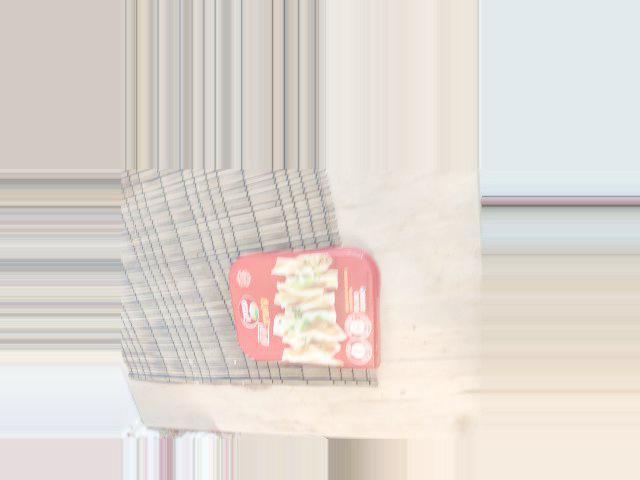cheese: (228, 255, 392, 366)
